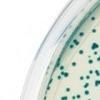Blue_green: (83, 82, 91, 90), (63, 70, 70, 78), (92, 42, 99, 49), (65, 87, 72, 93), (94, 80, 100, 87), (60, 95, 68, 100), (70, 94, 76, 100), (84, 90, 90, 96), (78, 49, 84, 55), (72, 62, 77, 69), (57, 74, 62, 81), (76, 93, 81, 100), (59, 65, 64, 71), (80, 76, 85, 82), (87, 59, 93, 64), (79, 32, 84, 38), (91, 16, 96, 22), (96, 56, 100, 63), (85, 74, 90, 79), (68, 44, 73, 49), (92, 28, 96, 34), (60, 70, 64, 75), (89, 69, 93, 74), (94, 51, 98, 56), (91, 45, 94, 51), (73, 38, 76, 43), (76, 41, 79, 46)
